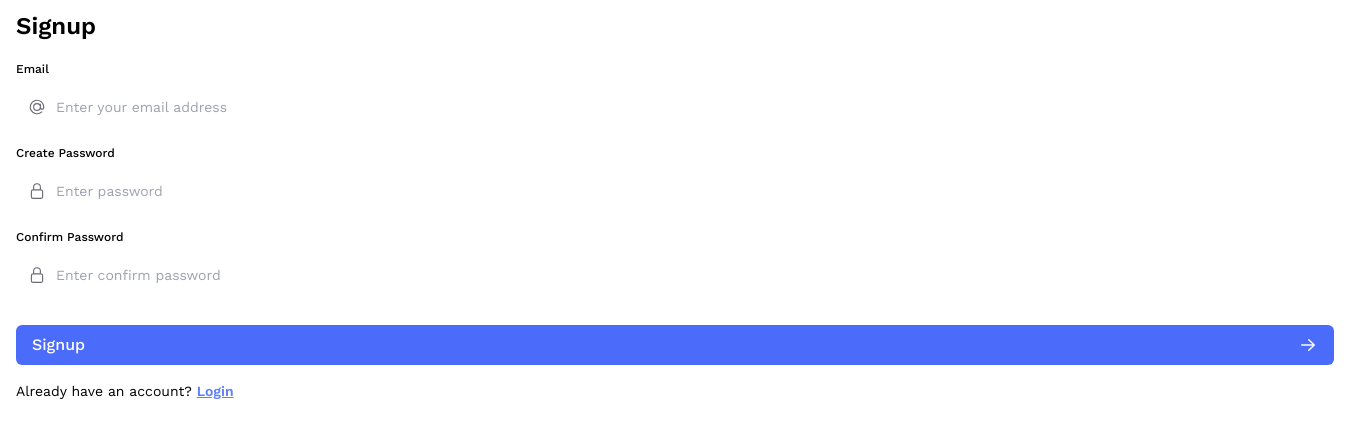
it: Signup Form › should return error Message
The width and height of the screenshot is (1351, 448).
In the field labelled "Email": [126, 107] box [16, 89, 235, 125], type "hello@asdfghh.com"
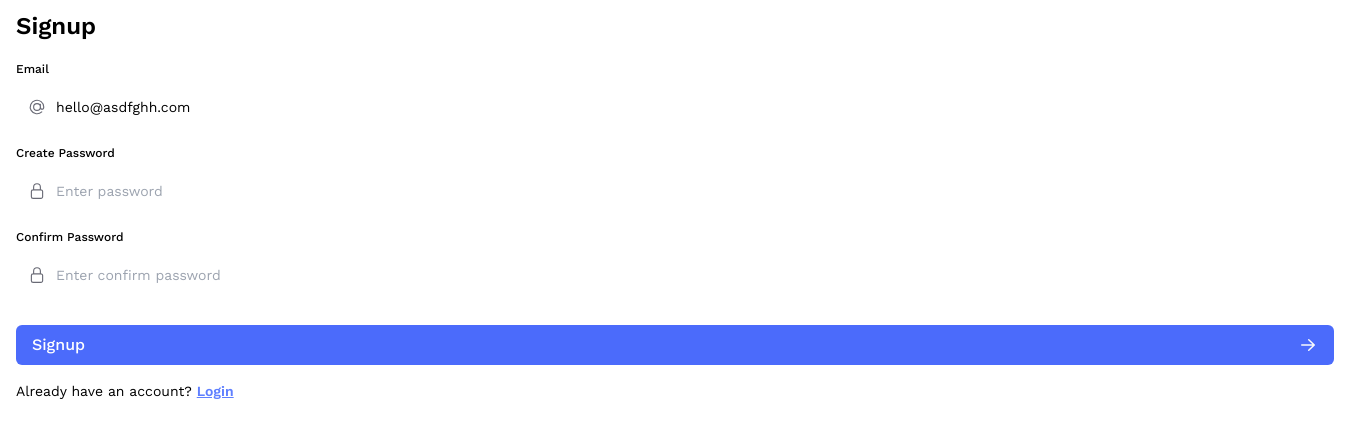
In the password field labelled "Create Password": [126, 191] box [16, 173, 235, 209], type "123456"
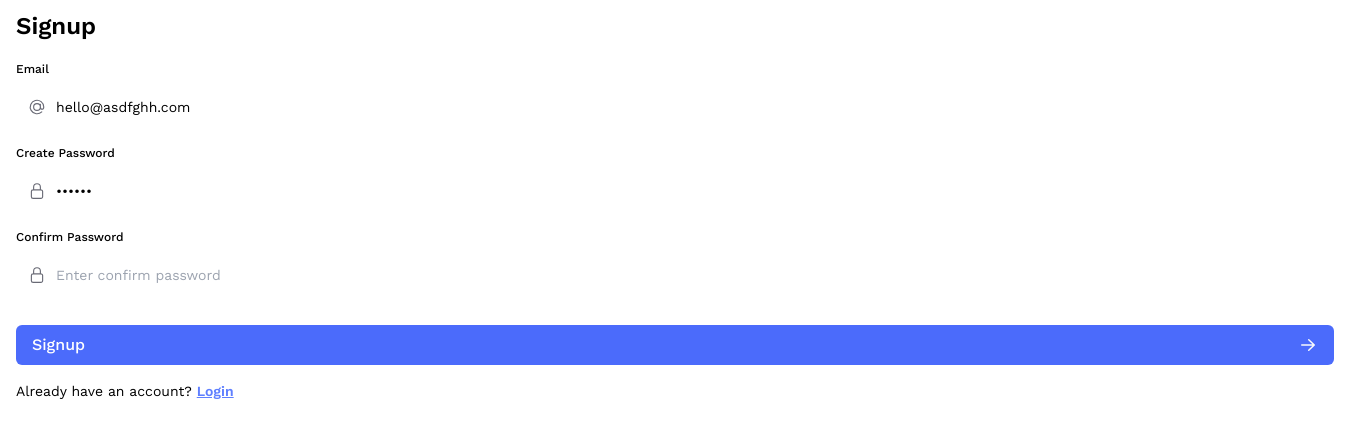
In the password field labelled "Confirm Password": [126, 275] box [16, 257, 235, 293], type "654321"
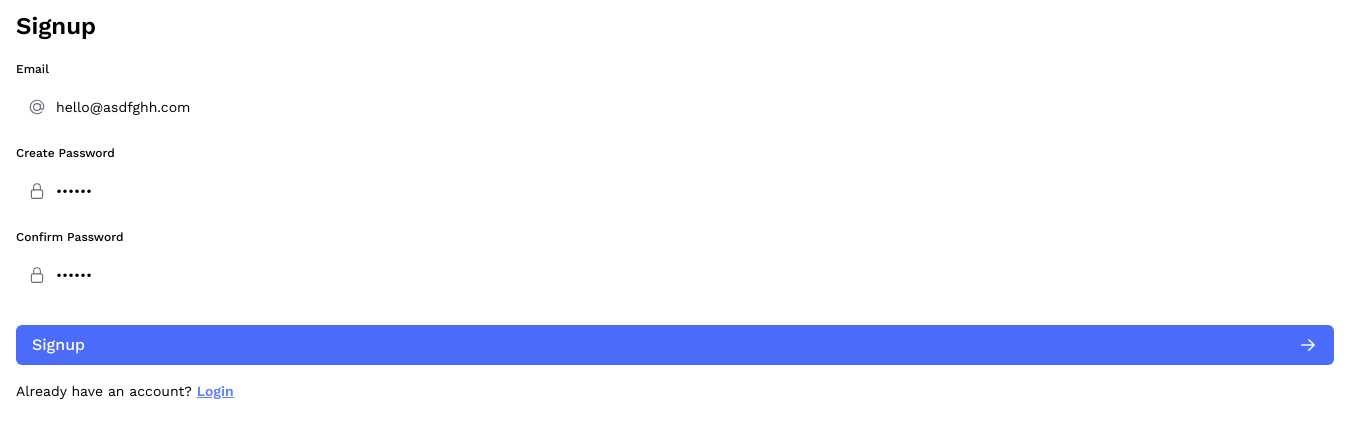
Click the button "Signup": [59, 345] box [16, 325, 1334, 365]
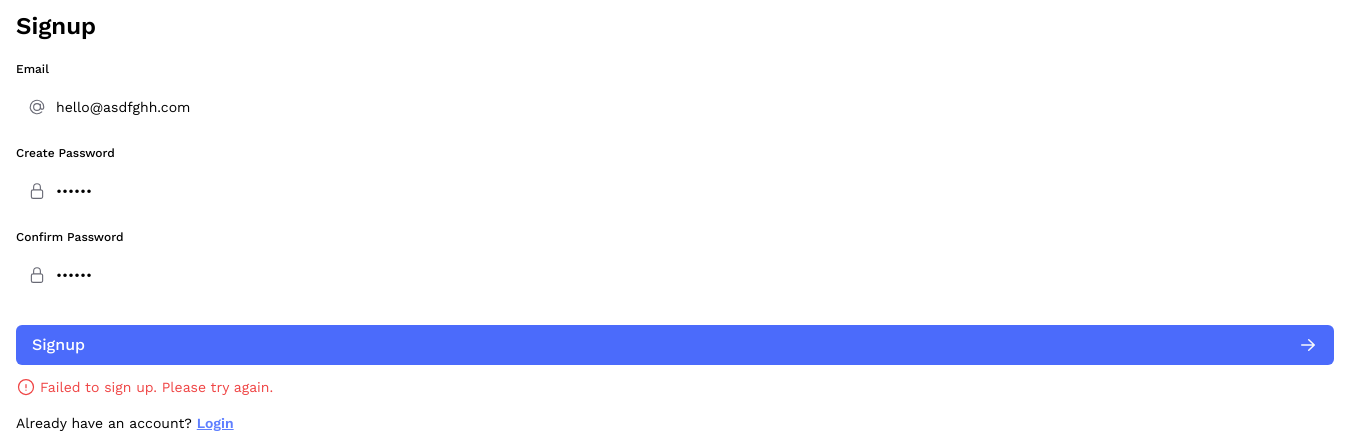
Result: the text "Failed to sign up. Please try again." is shown at [40, 377, 273, 397]
